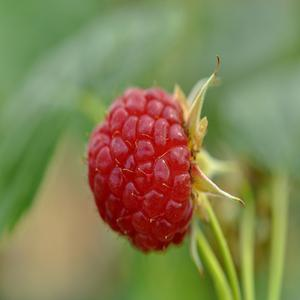raspb: (76, 86, 207, 251)
